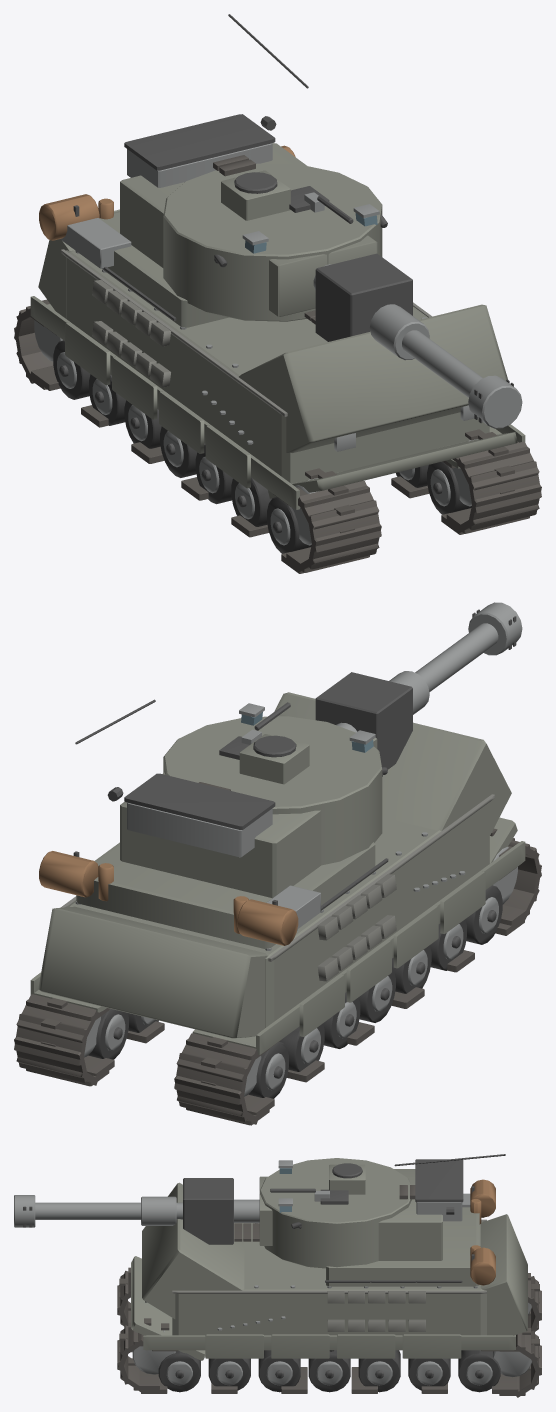
Rendered from medved.glb.
The picture shows the model from 3 angles, top to bottom: view 1: azimuth 30°, elevation 25°; view 2: azimuth 150°, elevation 25°; view 3: azimuth 270°, elevation 25°; orthographic projection. The views are drawn at different scales.
Visible parts, largest first — view 1: Hull, Turret, Barrel; view 2: Hull, Turret, Barrel; view 3: Hull, Turret, Barrel.
Part boxes in pixels (<box>): Hull: <box>14,145,541,573</box>; Turret: <box>120,14,387,321</box>; Barrel: <box>313,253,522,428</box>; Hull: <box>14,692,541,1125</box>; Turret: <box>75,699,387,898</box>; Barrel: <box>315,602,522,769</box>; Hull: <box>117,1179,541,1397</box>; Turret: <box>259,1154,505,1268</box>; Barrel: <box>14,1178,259,1244</box>.
Size of the model in its own units: 3.87 by 5.03 by 10.4.
